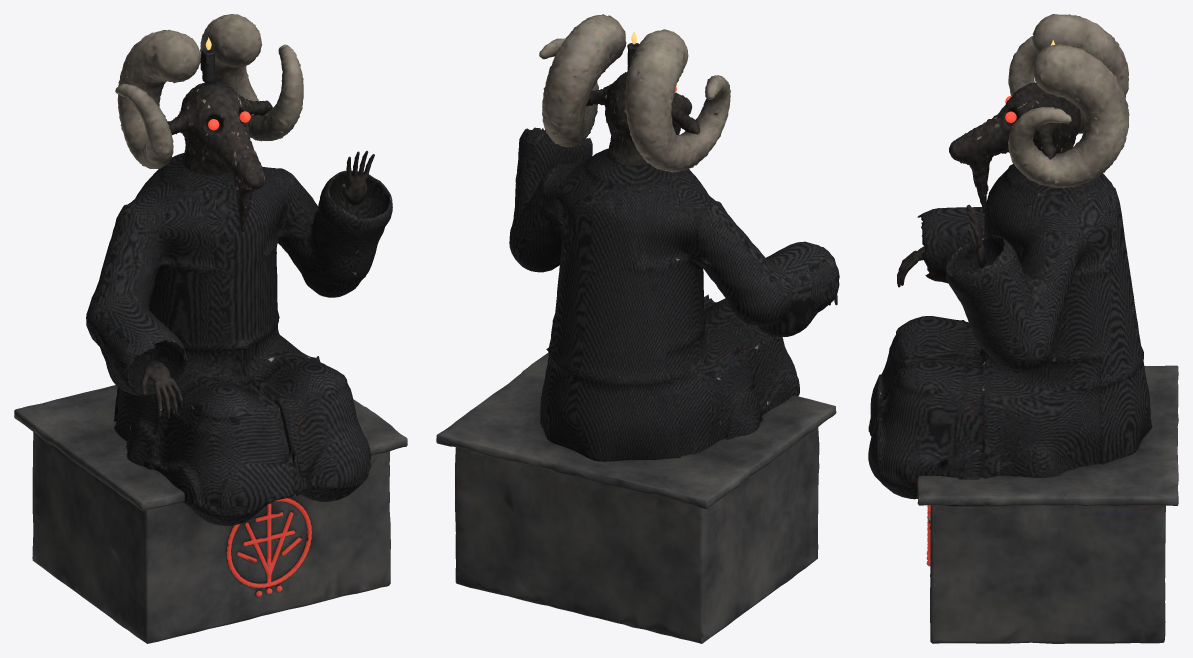
File: horned_idol.glb
The picture shows the model from 3 angles, left to right: view 1: azimuth 30°, elevation 25°; view 2: azimuth 150°, elevation 25°; view 3: azimuth 270°, elevation 25°; orthographic projection.
Parts seen in each view (by area): view 1: Idol_Robe, Plinth, Idol_Horns, Goat_Head, Plinth_Sigil, Idol_Hand_0, Idol_Hand_2; view 2: Idol_Robe, Plinth, Idol_Horns, Goat_Head; view 3: Idol_Robe, Plinth, Idol_Horns, Goat_Head, Idol_Hand_2, Idol_Hand_0.
Part boxes in pixels (left/top/right/bottom): Idol_Robe: left=86, top=152, right=392, bottom=525; Plinth: left=14, top=385, right=407, bottom=643; Idol_Horns: left=115, top=14, right=303, bottom=168; Goat_Head: left=167, top=81, right=272, bottom=232; Plinth_Sigil: left=226, top=498, right=311, bottom=596; Idol_Hand_0: left=141, top=360, right=182, bottom=418; Idol_Hand_2: left=341, top=151, right=374, bottom=205; Idol_Robe: left=509, top=127, right=839, bottom=461; Plinth: left=436, top=352, right=836, bottom=643; Idol_Horns: left=539, top=14, right=730, bottom=172; Goat_Head: left=586, top=71, right=699, bottom=166; Idol_Robe: left=868, top=163, right=1151, bottom=499; Plinth: left=917, top=365, right=1178, bottom=643; Idol_Horns: left=1008, top=14, right=1129, bottom=188; Goat_Head: left=949, top=82, right=1080, bottom=213; Idol_Hand_2: left=966, top=204, right=985, bottom=268; Idol_Hand_0: left=897, top=246, right=924, bottom=287.
Size of the model in its own units: 1.28 by 2.31 by 1.18.
1 material, 1 textured.
